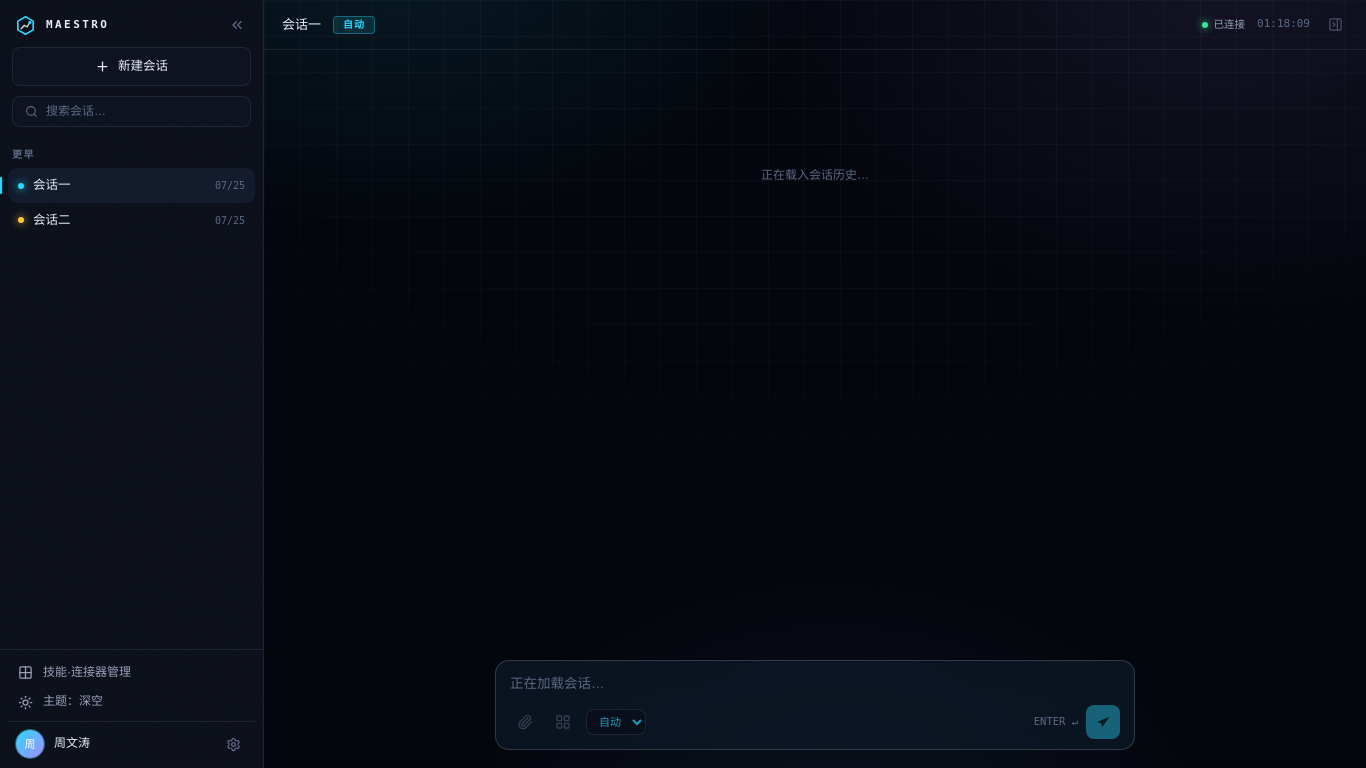
Workspace session orchestration › prevents a late history response from overwriting a newly selected session
The image size is (1366, 768).
Step 1. Click the button "会话二" → coordinates (119, 220), box [33,211,206,230]
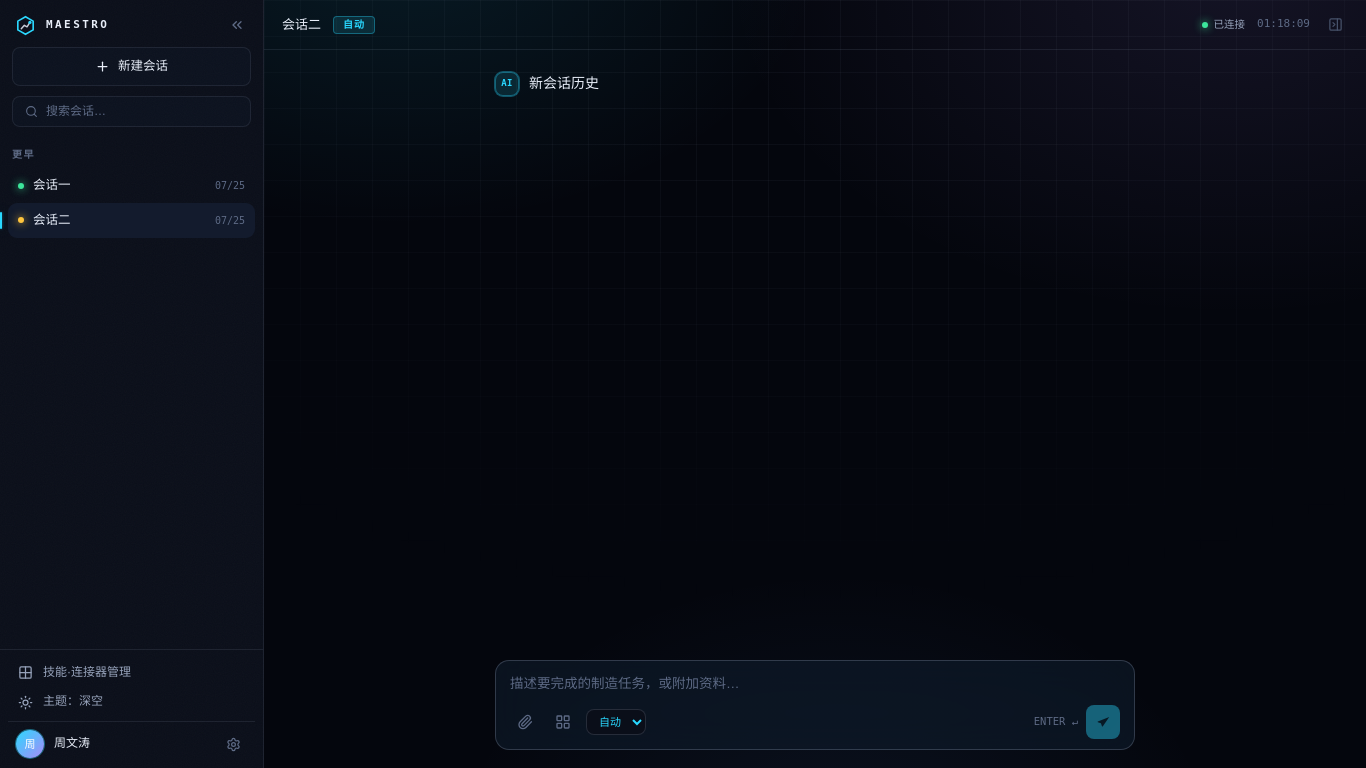
Now the text "新会话历史" is shown, box [529,72,599,95]
